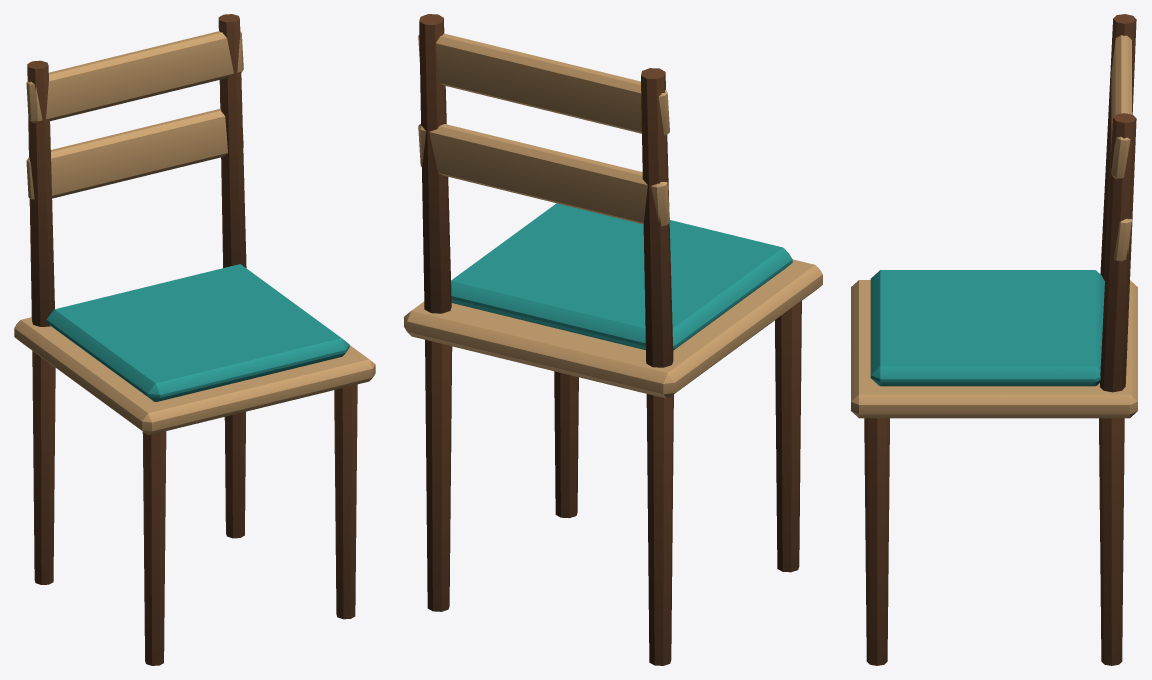
File: chair_01.glb
The picture shows the model from 3 angles, left to right: view 1: azimuth 30°, elevation 25°; view 2: azimuth 150°, elevation 25°; view 3: azimuth 270°, elevation 25°; orthographic projection. The views are drawn at different scales.
Visible parts, largest first — view 1: chair_01_LOD0; view 2: chair_01_LOD0; view 3: chair_01_LOD0.
Boxes of the visible parts, box(x1,y1,x2,y2) form: chair_01_LOD0: box(14, 14, 375, 665); chair_01_LOD0: box(404, 14, 822, 665); chair_01_LOD0: box(851, 14, 1137, 665).
Size of what is drawn, in the model's own units: 0.44 by 0.9207 by 0.44.
1 material, 1 textured.
